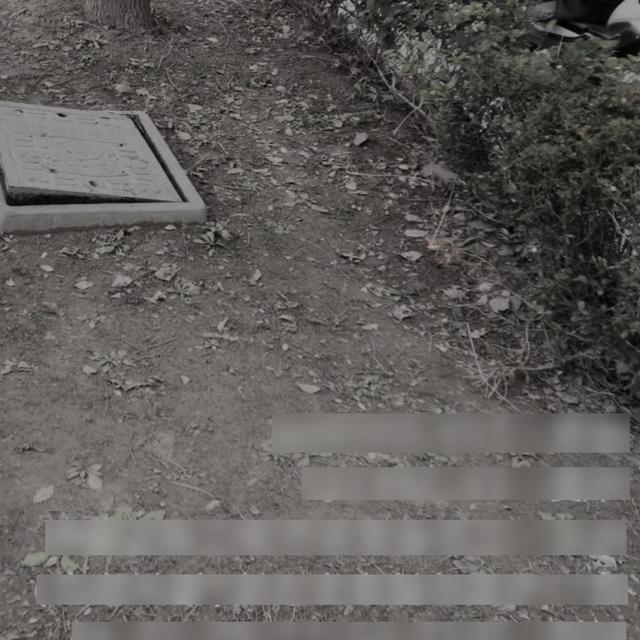uncovered: (0, 92, 216, 238)
